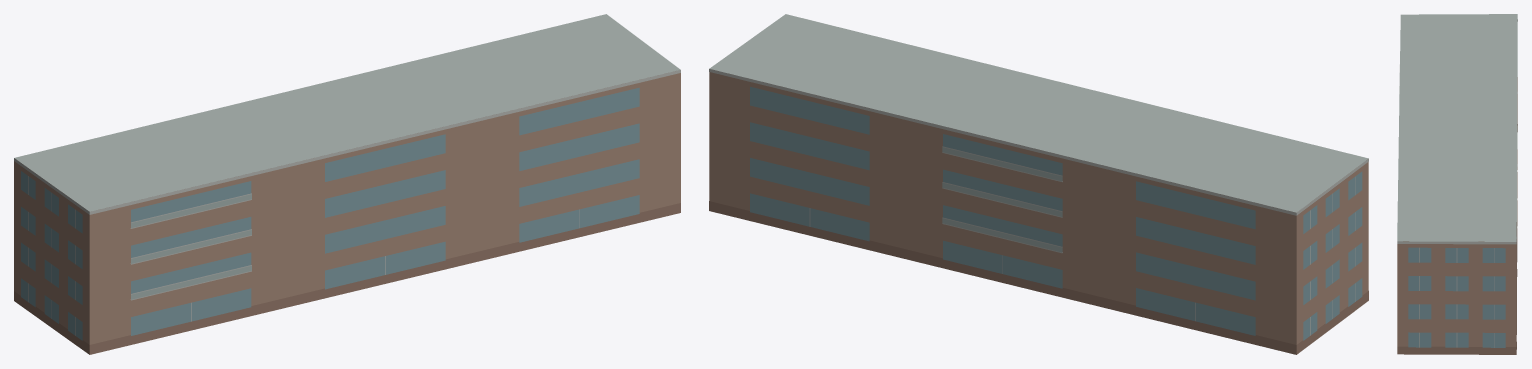
File: survey-upis-32993249.glb
3 renders of one model, left to right at view 1: azimuth 30°, elevation 25°; view 2: azimuth 150°, elevation 25°; view 3: azimuth 270°, elevation 25°, orthographic. The views are drawn at different scales.
Visible parts, largest first — view 1: survey-upis-32993249.tmp; view 2: survey-upis-32993249.tmp; view 3: survey-upis-32993249.tmp.
Boxes of the visible parts, x1,y1,x2,y2 form: survey-upis-32993249.tmp: [14, 14, 680, 354]; survey-upis-32993249.tmp: [709, 14, 1368, 354]; survey-upis-32993249.tmp: [1397, 14, 1517, 354].
Bounding box in the file's own units: 48.03 × 11.1 × 10.75.
